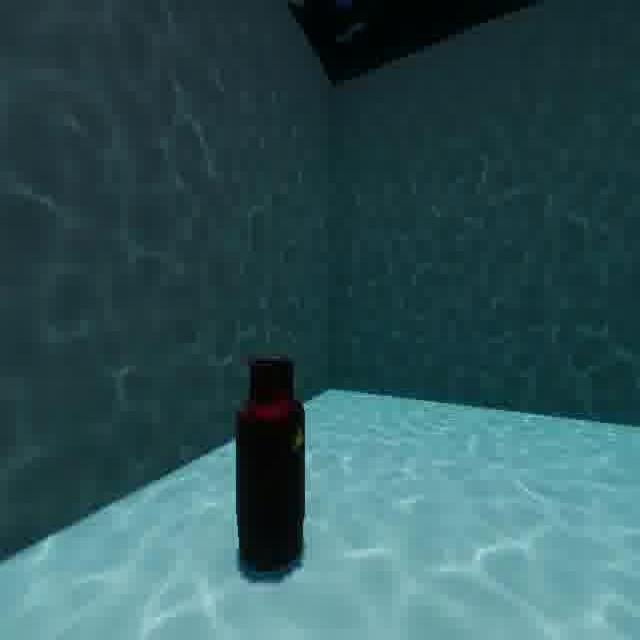Cylinder: (228, 344, 319, 586)
